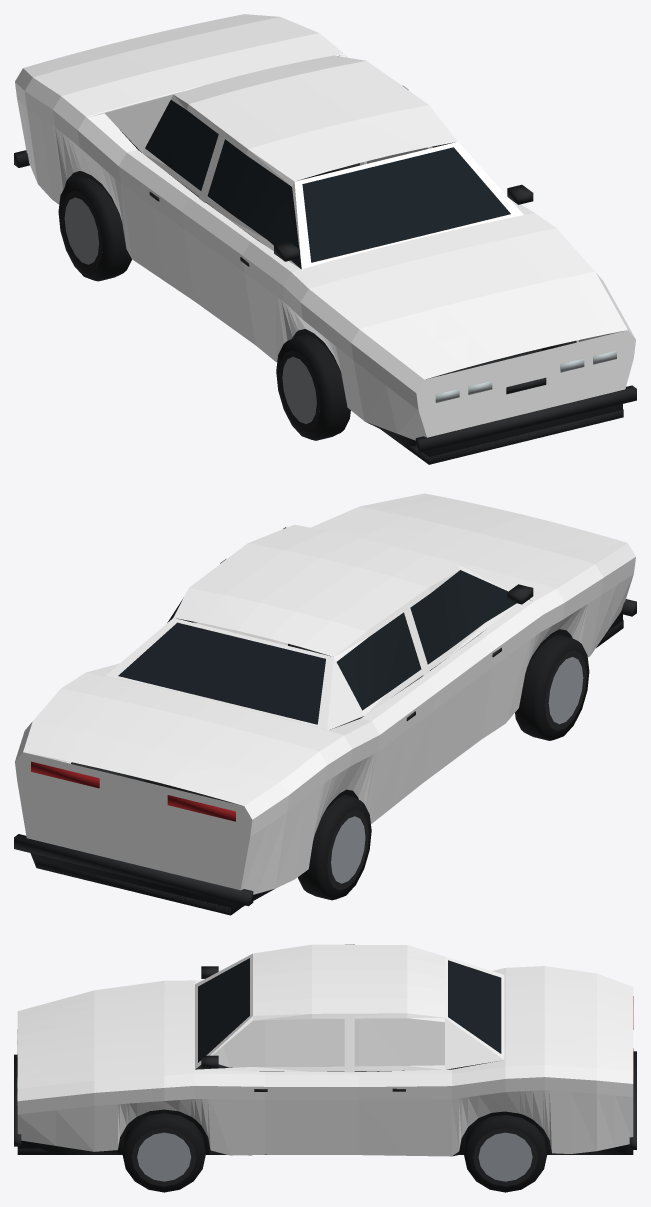
File: norrvik_bastion_2.glb
3 renders of one model, top to bottom at view 1: azimuth 30°, elevation 25°; view 2: azimuth 150°, elevation 25°; view 3: azimuth 270°, elevation 25°, orthographic. The views are drawn at different scales.
Parts seen in each view (by area): view 1: Body_Paint, Body_Details, Mount_FrontLeft_Wheel_Details, Mount_RearLeft_Wheel_Details; view 2: Body_Paint, Body_Details, Mount_FrontLeft_Wheel_Details, Mount_RearLeft_Wheel_Details; view 3: Body_Paint, Body_Details, Mount_FrontRight_Wheel_Details, Mount_RearRight_Wheel_Details.
Part boxes in pixels (x1,y1,x2,y2): Body_Paint: (15, 14, 635, 440); Body_Details: (14, 100, 636, 464); Mount_FrontLeft_Wheel_Details: (276, 334, 350, 440); Mount_RearLeft_Wheel_Details: (58, 176, 131, 281); Body_Paint: (15, 493, 635, 894); Body_Details: (14, 527, 636, 915); Mount_FrontLeft_Wheel_Details: (515, 634, 589, 740); Mount_RearLeft_Wheel_Details: (298, 795, 371, 900); Body_Paint: (17, 944, 633, 1156); Body_Details: (14, 958, 636, 1156); Mount_FrontRight_Wheel_Details: (122, 1113, 205, 1192); Mount_RearRight_Wheel_Details: (464, 1115, 547, 1192).
Size of the model in its own units: 1.85 by 1.37 by 4.64.
Materials: 2 (1 with a texture image).
